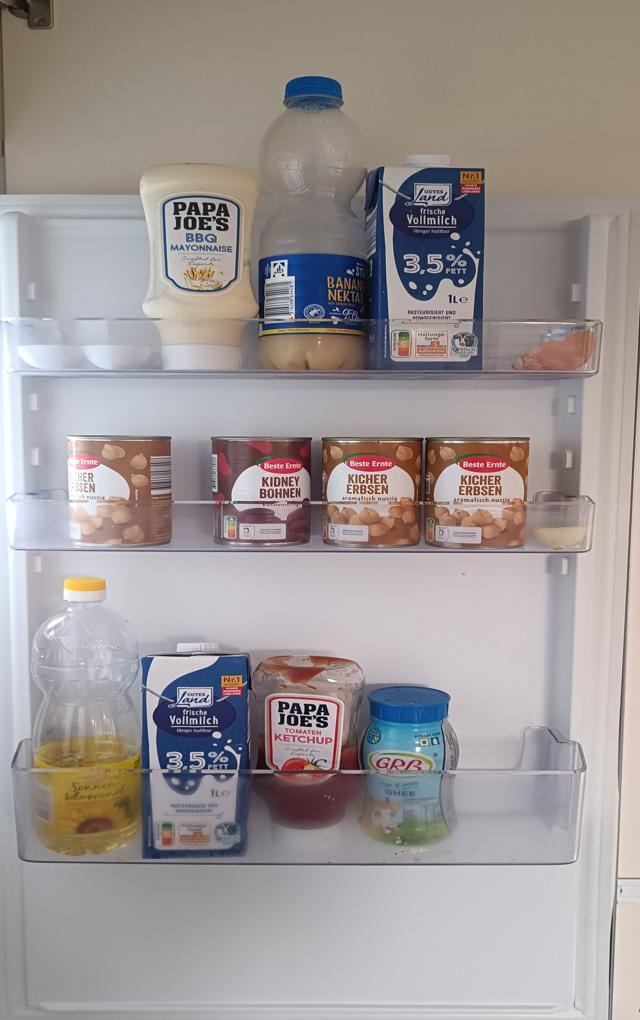bananajuice: (254, 74, 372, 374)
chickpeas: (69, 433, 173, 545), (426, 437, 528, 547), (321, 439, 421, 549)
ghee: (359, 679, 459, 845)
kidneybeans: (210, 439, 314, 547)
mayoniasie: (140, 165, 255, 370)
milk: (369, 151, 487, 375), (142, 639, 250, 860)
oil: (31, 576, 147, 858)
tomatoketchup: (252, 656, 365, 847)
